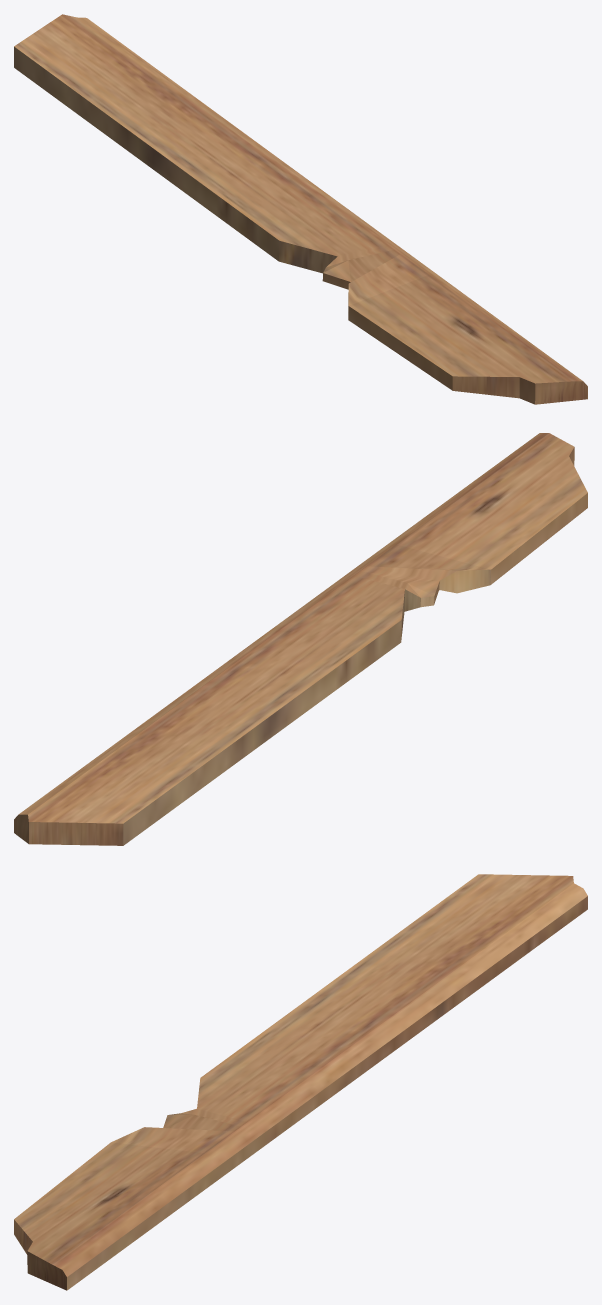
Rendered from plank6.fbx.
3 views of the same model, one above another, from view 1: azimuth 30°, elevation 25°; view 2: azimuth 150°, elevation 25°; view 3: azimuth 330°, elevation 25° (orthographic). The views are drawn at different scales.
Parts seen in each view (by area): view 1: Plane.027; view 2: Plane.027; view 3: Plane.027.
Part boxes in pixels (box(x1,y1,x2,y2)): Plane.027: box(14, 14, 587, 404); Plane.027: box(14, 433, 587, 845); Plane.027: box(14, 874, 587, 1290).
Size of the model in its own units: 60.01 by 12.34 by 530.
